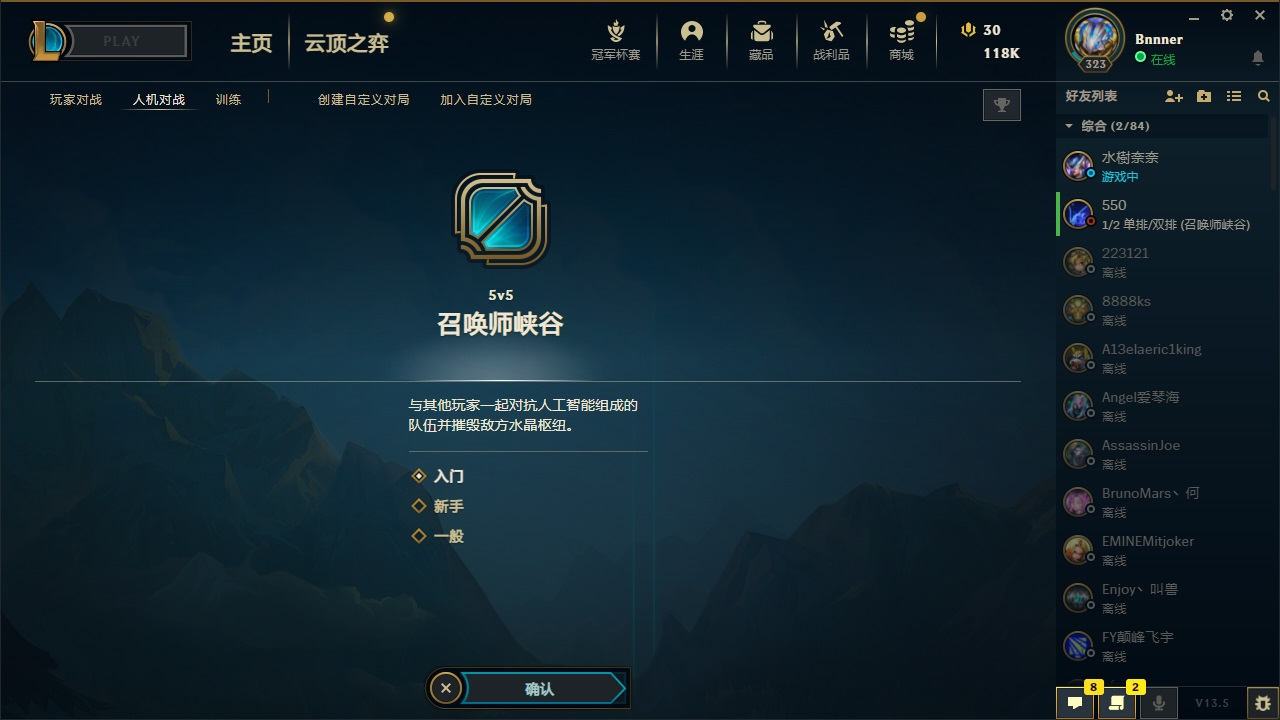HSPLAY: (63, 15, 189, 64)
QR: (471, 673, 607, 704)
RMRJ: (400, 456, 475, 489)
